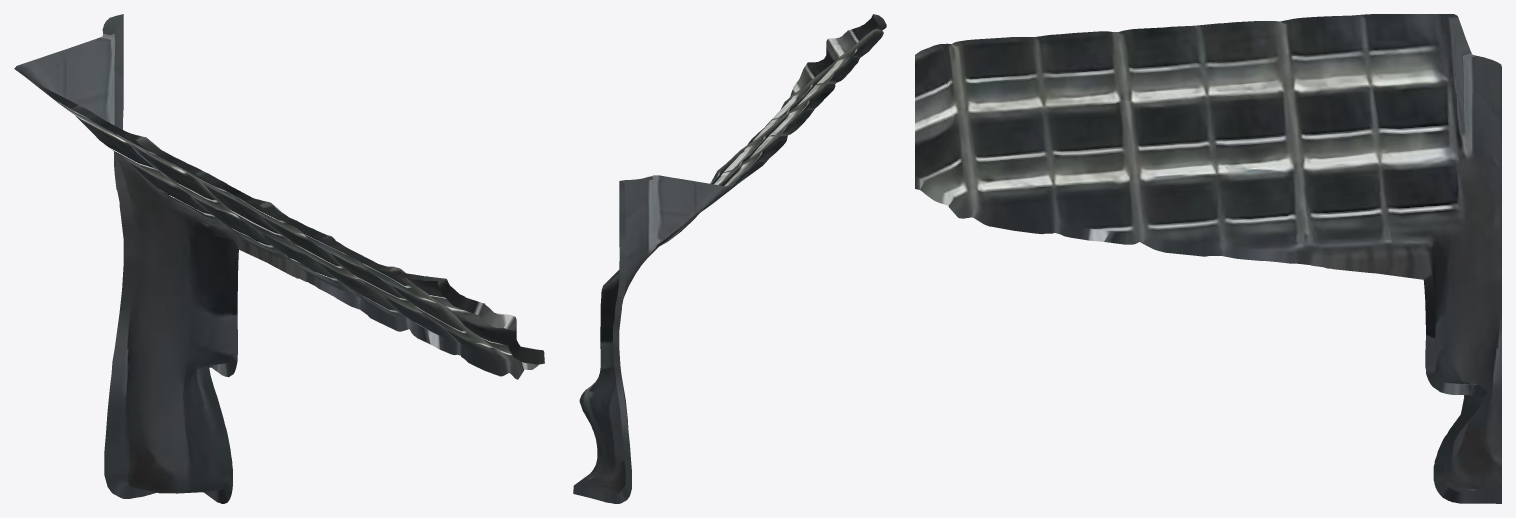
File: z20-167783-405224-h0-yup-uvflip-v3-world.glb
3 views of the same model, side by side, from view 1: azimuth 30°, elevation 25°; view 2: azimuth 150°, elevation 25°; view 3: azimuth 270°, elevation 25° (orthographic). The views are drawn at different scales.
Bounding box in the file's own units: 10.32 × 23.16 × 30.32.
Materials: 1 (1 with a texture image).
